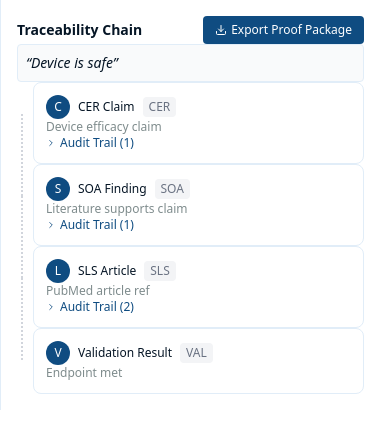
Test: TraceabilityDrillDown › expands audit trail on click
The image size is (381, 443).
What coordinates should you click on to do the following:
click the button with test id "audit-trail" below "Device efficacy claim"
I would click on:
 (90, 143)
Its box is [46, 135, 134, 151].
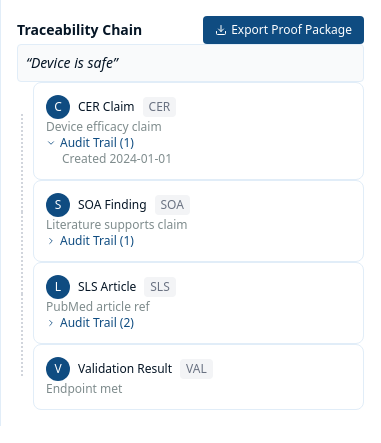
Check: the text "Created 2024-01-01" is shown, box [62, 150, 172, 167]
